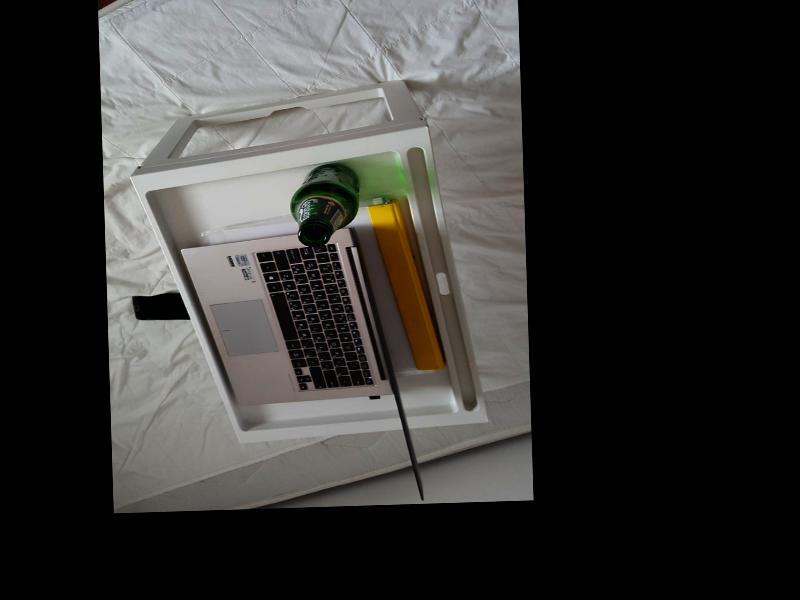Beer: (288, 161, 361, 246)
